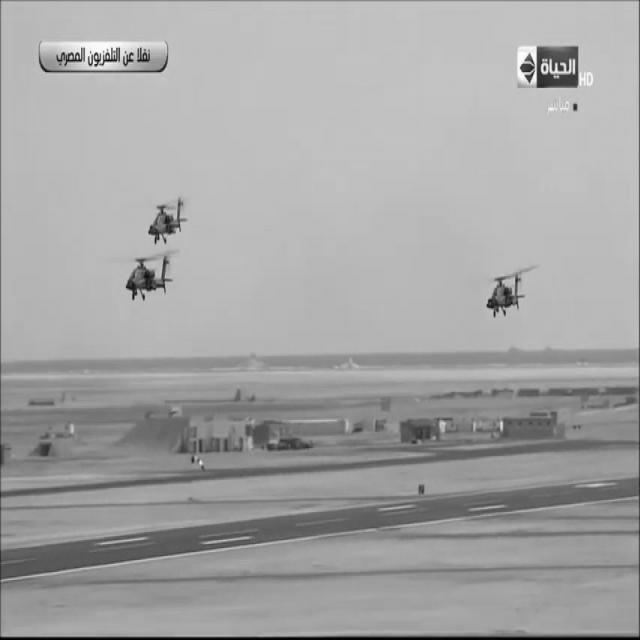helikopter: (479, 245, 538, 327), (120, 250, 182, 310), (142, 187, 195, 250)
